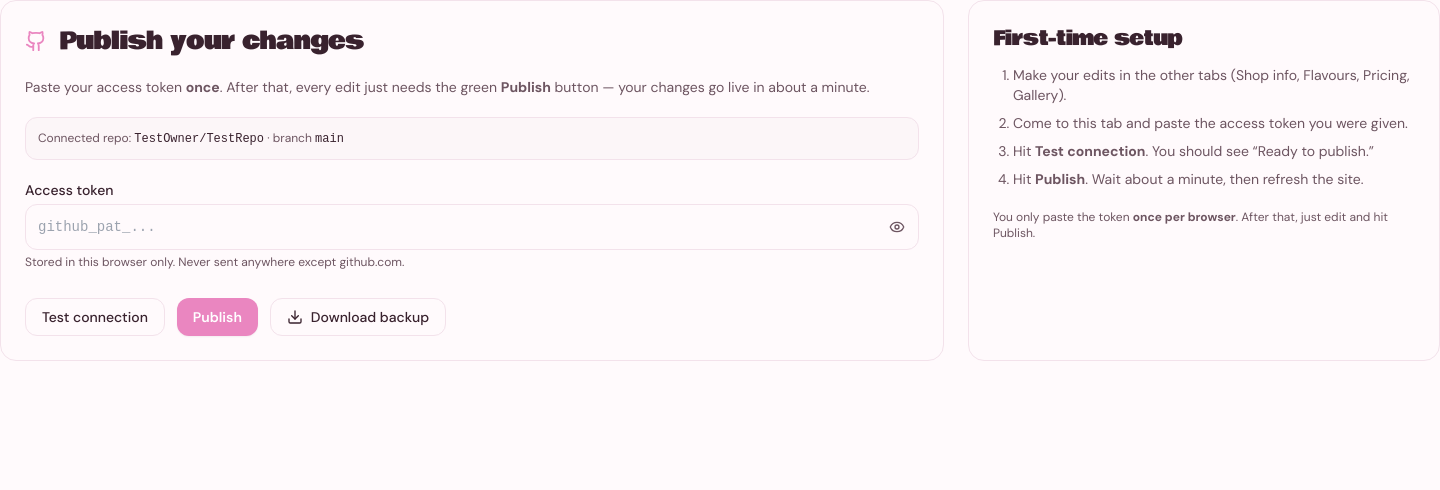
Test case: PublishPanel — Publish button › shows error state when publishContent rejects
This screenshot has width=1440, height=490.
Type "tok" into the password field with placeholder "github_pat_..." at (472, 227), box 25,204 -> 919,250
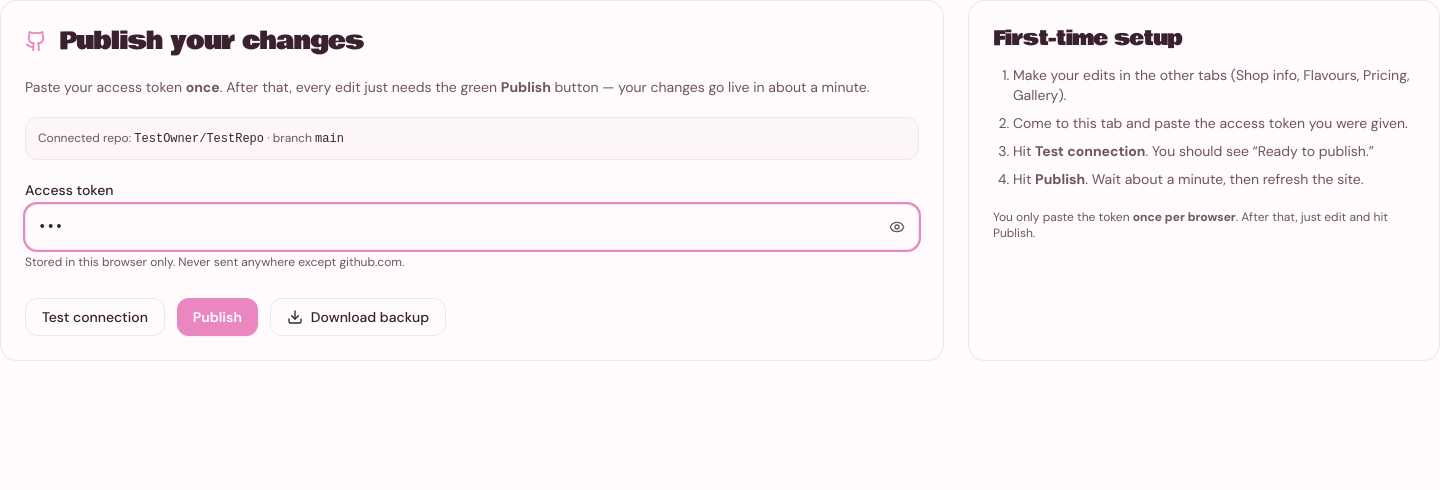
Click the button "Publish" at (217, 317), box 177,298 -> 258,336
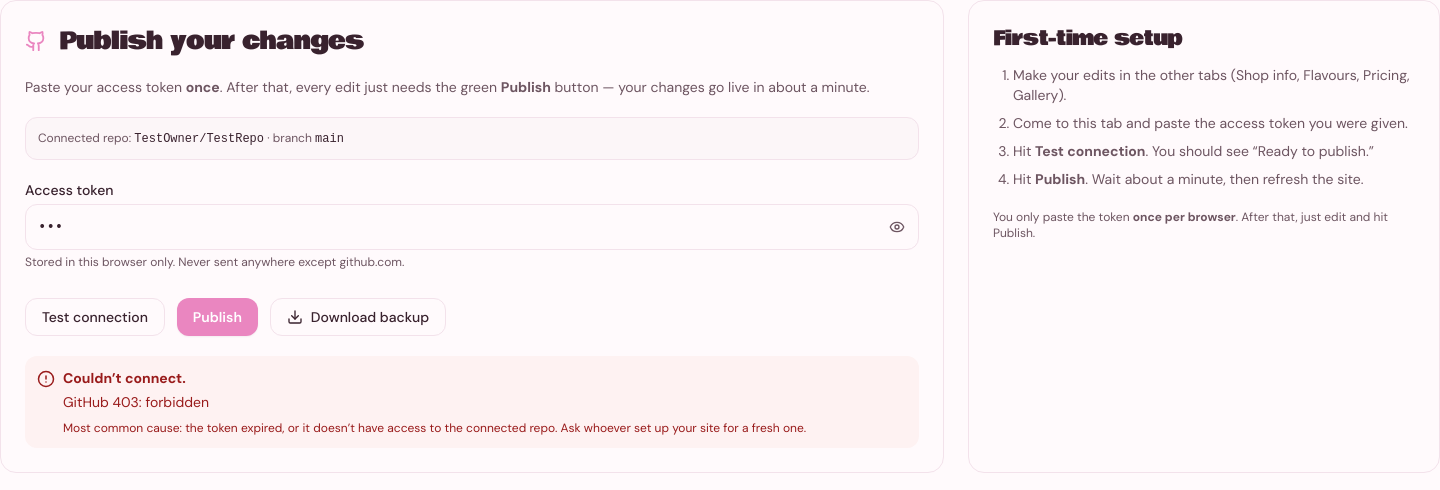
Now the text "GitHub 403: forbidden" is shown, box 63,393 -> 209,411
